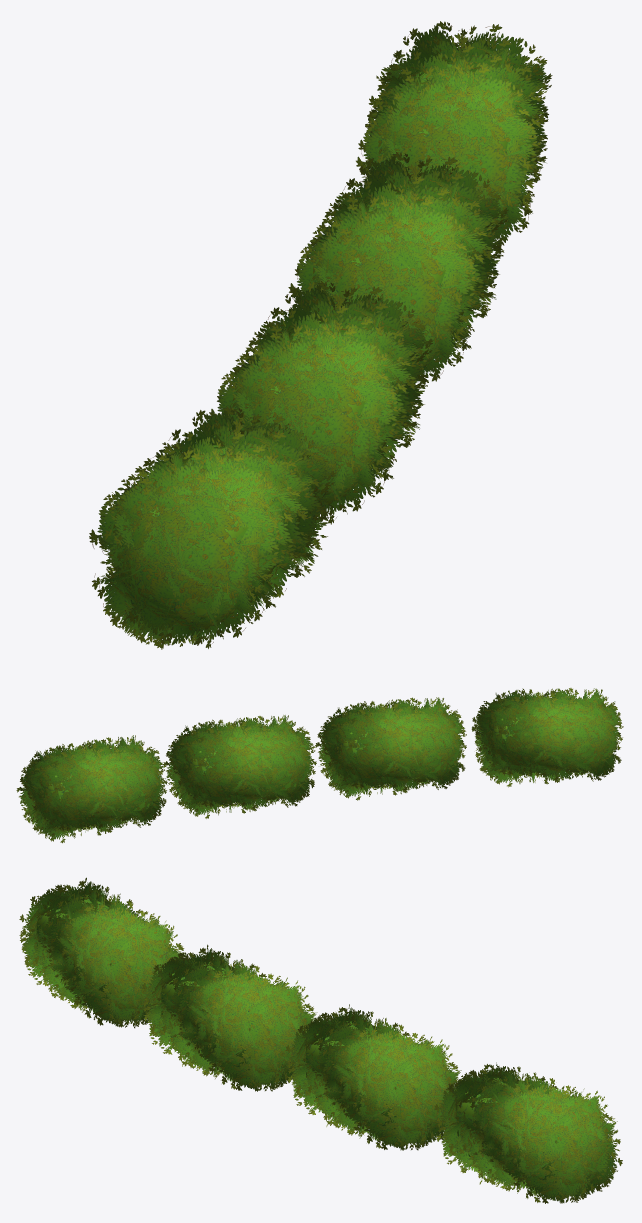
Rendered from SM_Bush06_Splines_13.fbx.
3 renders of one model, top to bottom at view 1: azimuth 30°, elevation 25°; view 2: azimuth 150°, elevation 25°; view 3: azimuth 270°, elevation 25°, orthographic. The views are drawn at different scales.
Visible parts, largest first — view 1: SM_Bush06_Splines_13_LOD0; view 2: SM_Bush06_Splines_13_LOD0; view 3: SM_Bush06_Splines_13_LOD0.
Boxes of the visible parts, x1,y1,x2,y2 form: SM_Bush06_Splines_13_LOD0: (89,21,552,649); SM_Bush06_Splines_13_LOD0: (16,688,623,843); SM_Bush06_Splines_13_LOD0: (19,877,622,1203).
Size of the model in its own units: 806 by 803 by 166.
